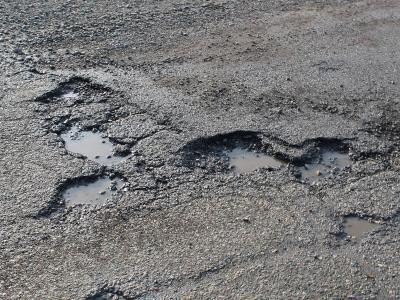pothole: (177, 126, 290, 181), (38, 168, 132, 221), (53, 118, 140, 164), (290, 133, 360, 188), (32, 74, 112, 110), (330, 208, 384, 245), (80, 284, 133, 299)
